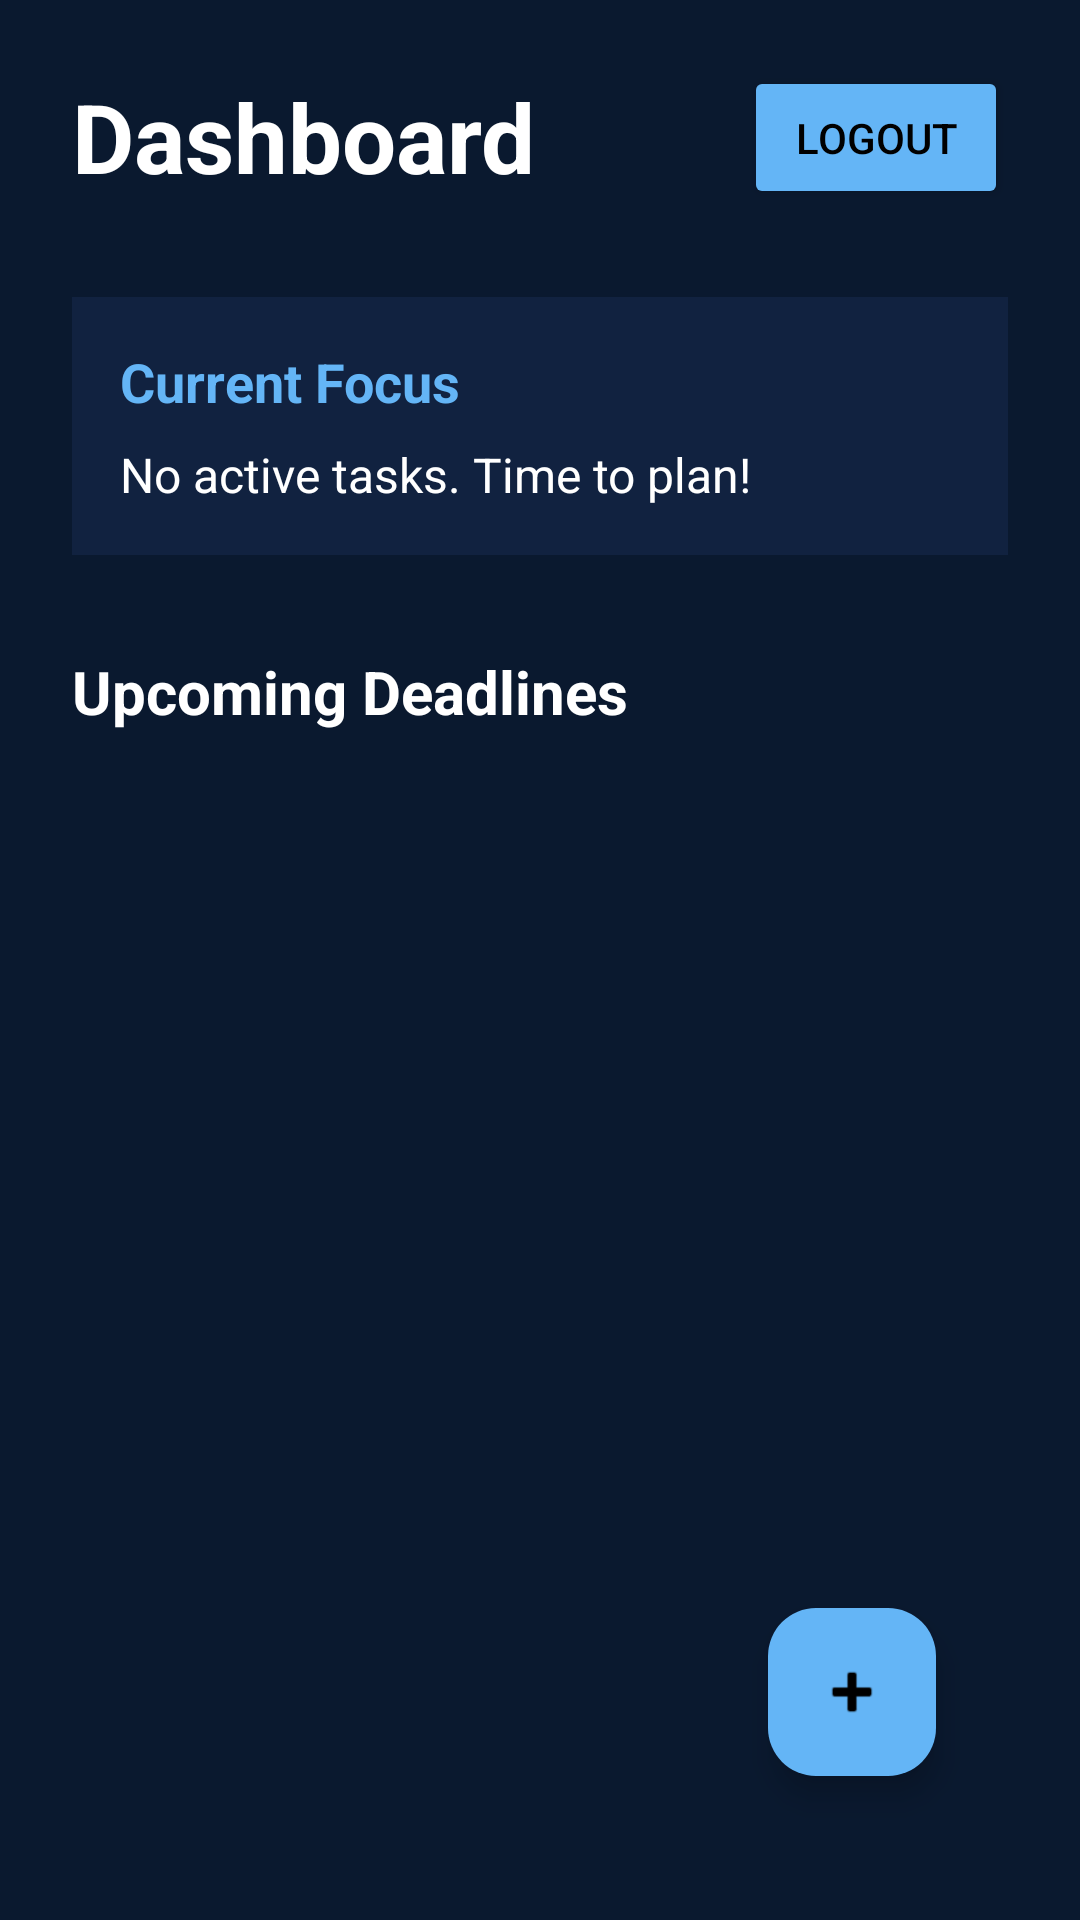

Named icons in this screenshot (1080x1920) and their centers, point (x, y):
add: point (852, 1692)
